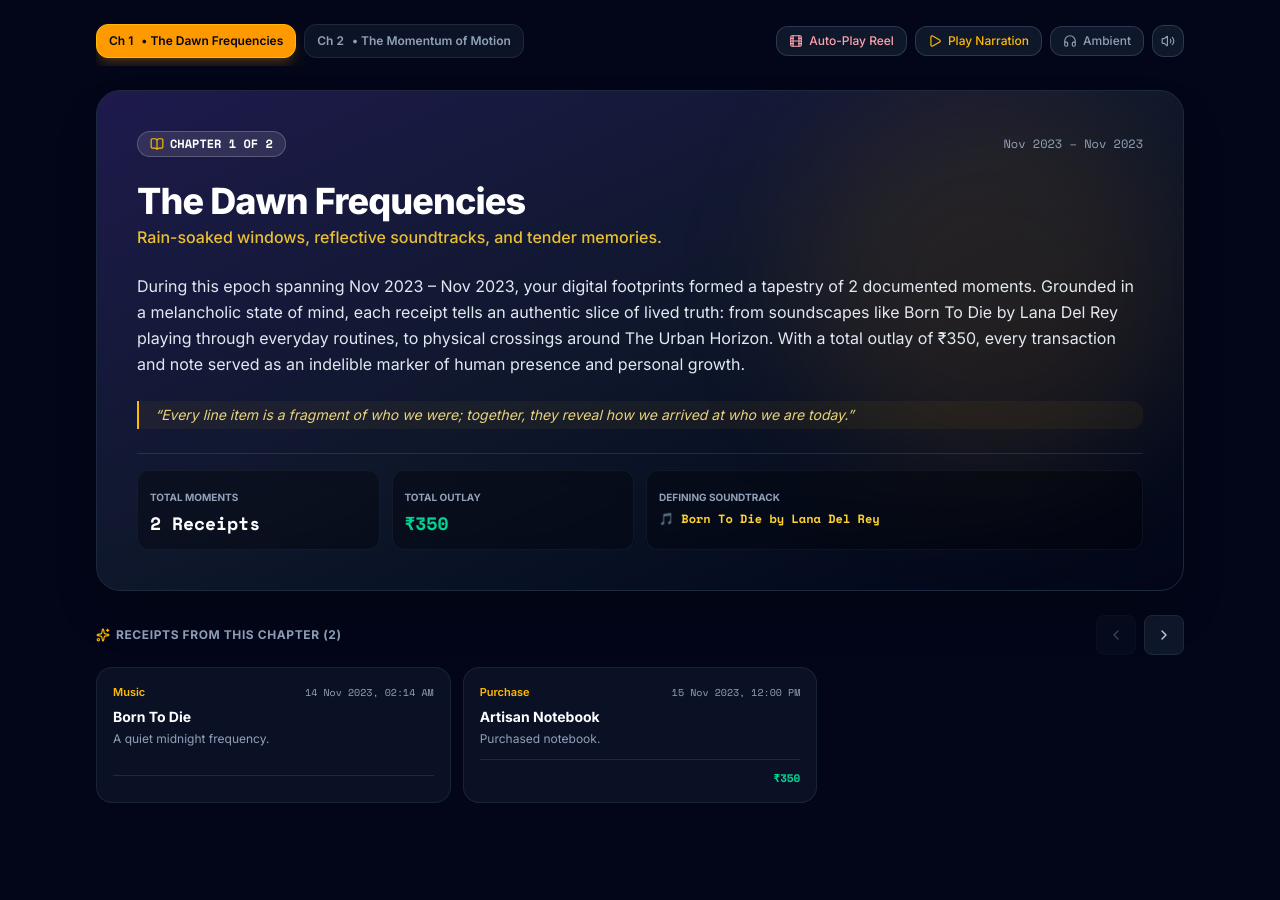
Test: ChapterStoryView Component (FAIE Parameters 4 & 6) › navigates with next and previous buttons
Click the button named "Next Chapter": (1164, 635) [1144,615,1184,655]
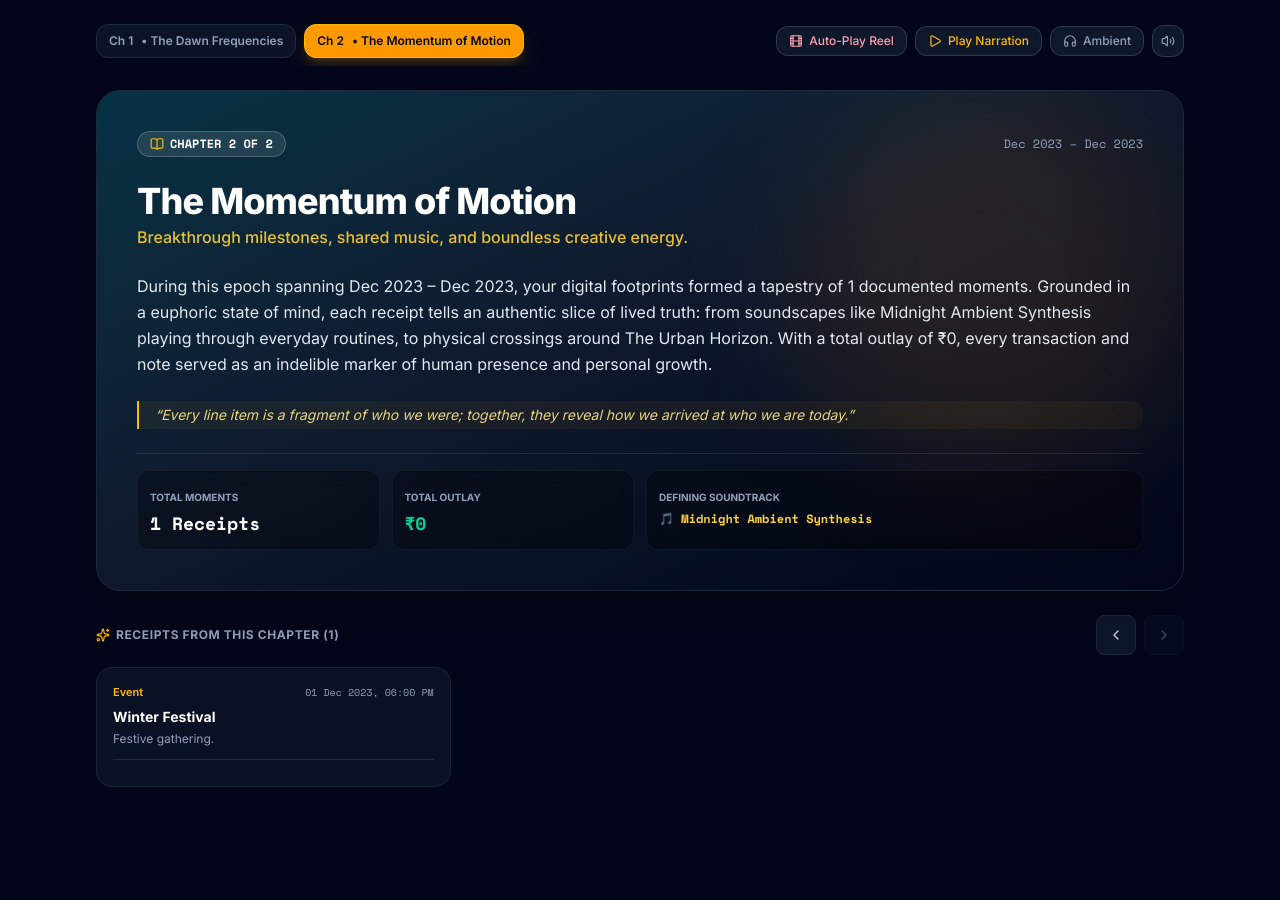
Result: the text "CHAPTER 2 OF 2" is shown at [137,131,286,157]
Click the button named "Previous Chapter": (1116, 635) [1096,615,1136,655]
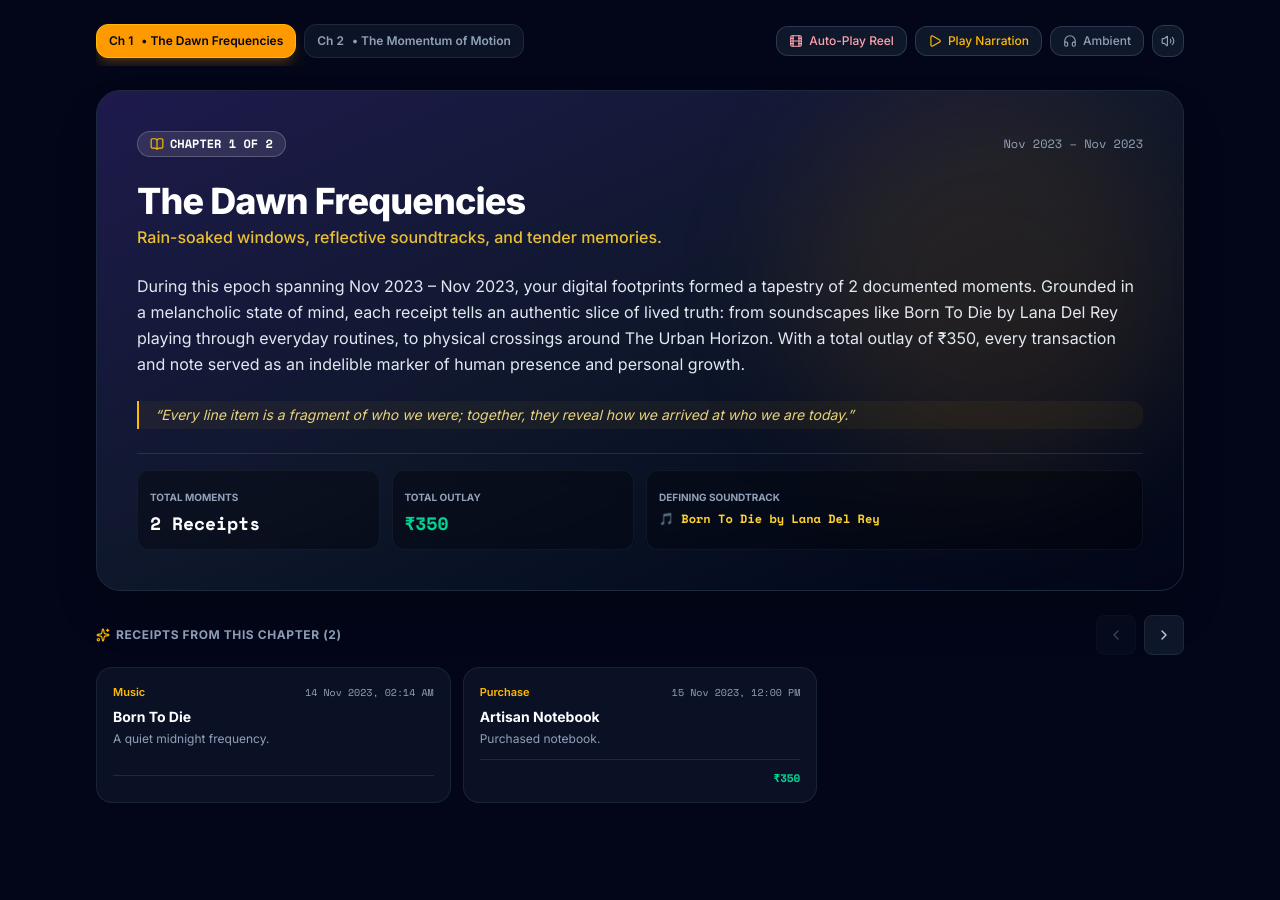
Result: the text "CHAPTER 1 OF 2" is shown at [137,131,286,157]
